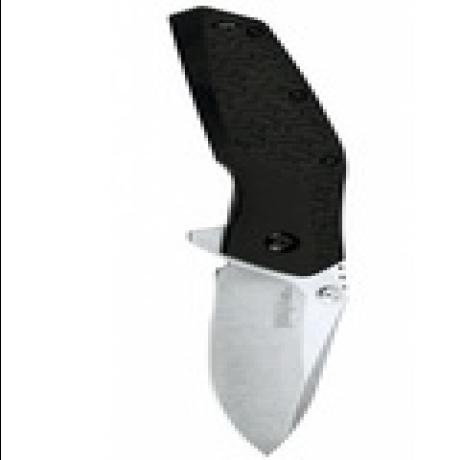weapon: (162, 5, 350, 453)
